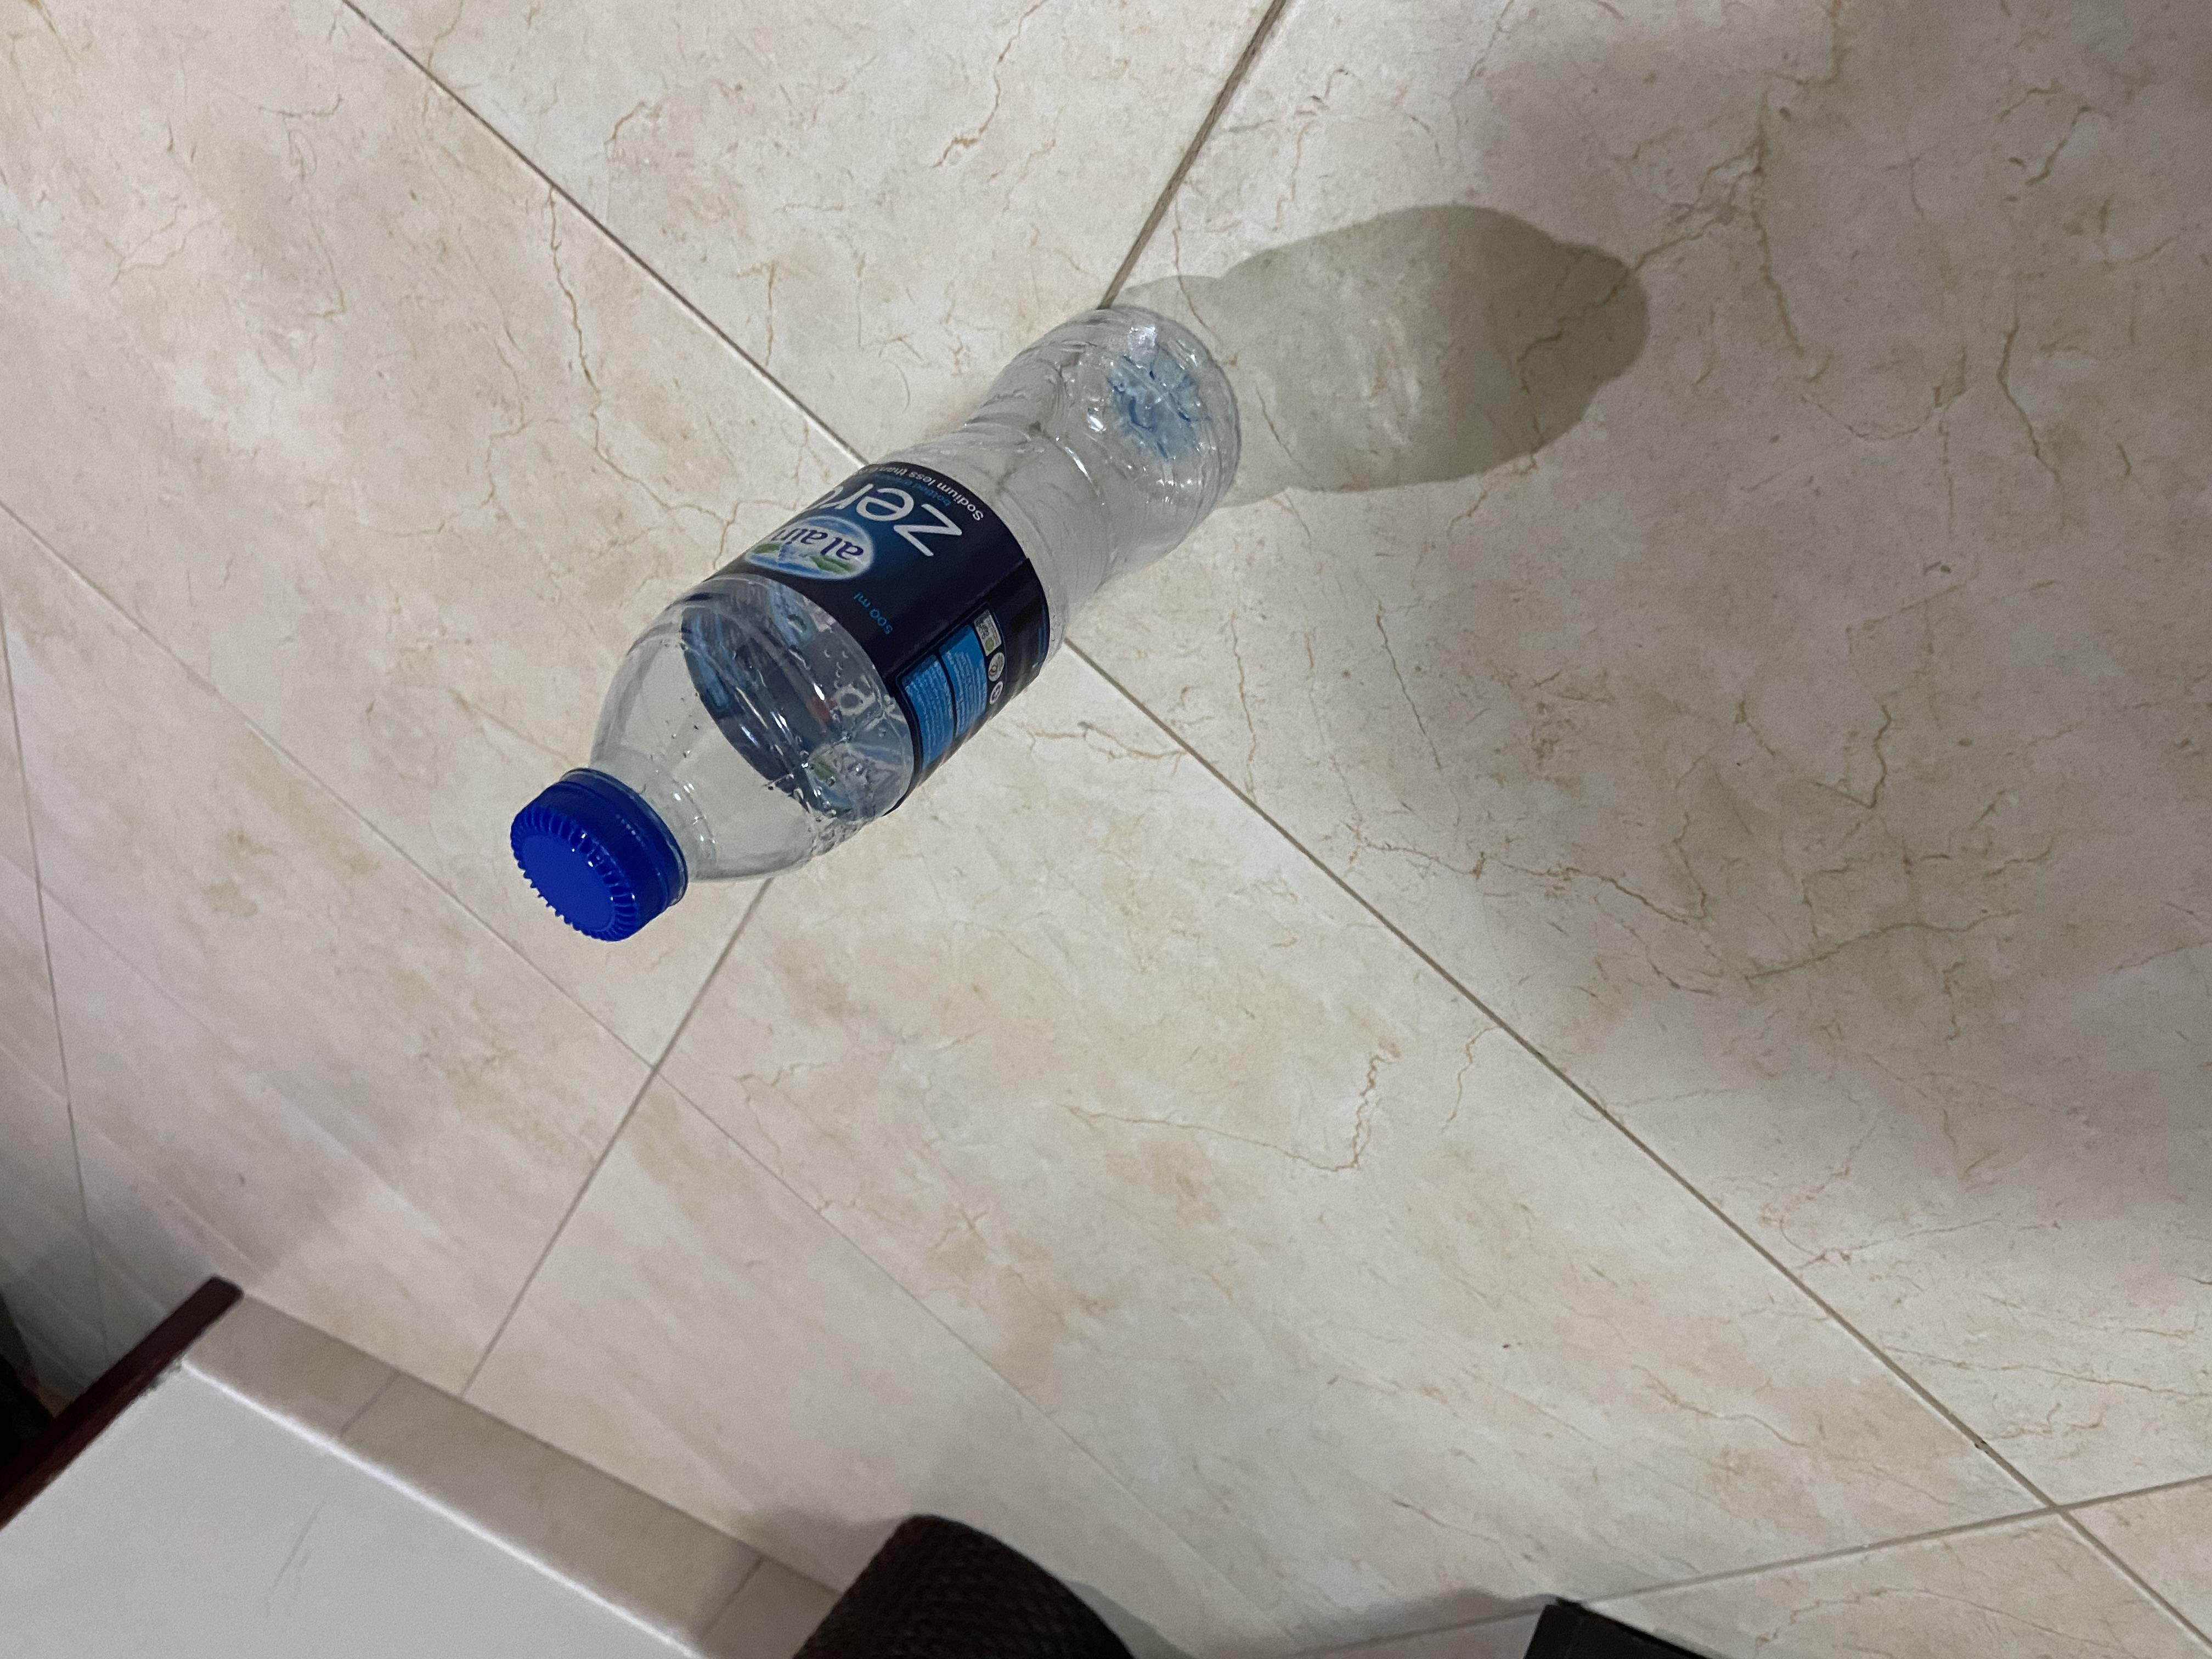bottle: (925, 368, 1822, 901)
